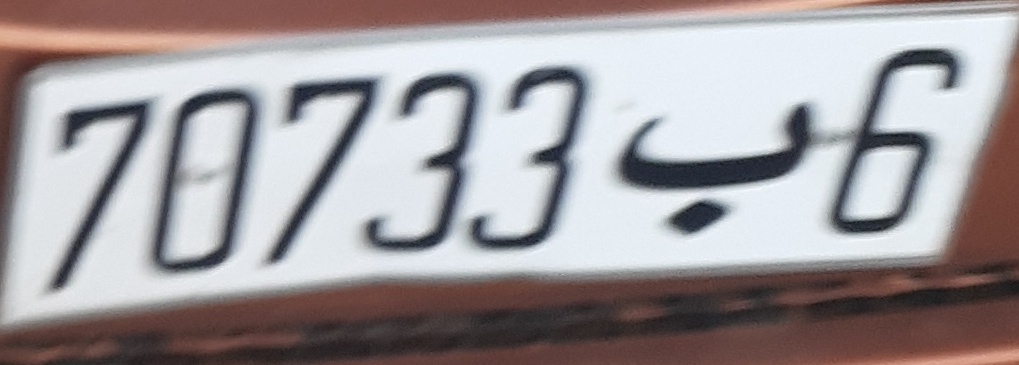0: (151, 86, 261, 271)
3: (467, 62, 588, 249), (367, 64, 481, 262)
6: (827, 34, 961, 241)
7: (261, 81, 379, 276), (43, 95, 154, 290)
b: (613, 95, 821, 241)
